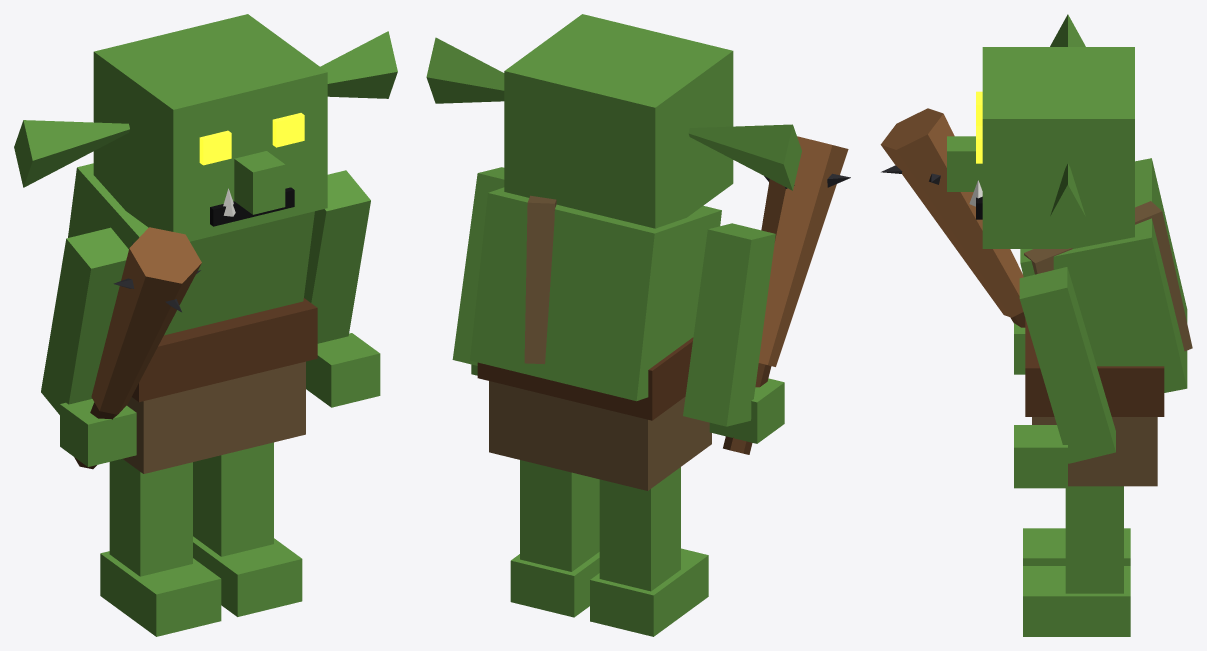
The model's file is Enemy_Goblin.fbx.
3 views of the same model, side by side, from view 1: azimuth 30°, elevation 25°; view 2: azimuth 150°, elevation 25°; view 3: azimuth 270°, elevation 25° (orthographic). The views are drawn at different scales.
Visible parts, largest first — view 1: Enemy_Body, Enemy_Weapon; view 2: Enemy_Body, Enemy_Weapon; view 3: Enemy_Body, Enemy_Weapon.
Boxes of the visible parts, box(x1,y1,x2,y2) form: Enemy_Body: box(14, 14, 397, 636); Enemy_Weapon: box(74, 227, 201, 469); Enemy_Body: box(426, 14, 801, 636); Enemy_Weapon: box(723, 136, 850, 454); Enemy_Body: box(947, 14, 1192, 636); Enemy_Weapon: box(880, 108, 1025, 327).
Bounding box in the file's own units: 0.9 × 1.28 × 0.6971.
